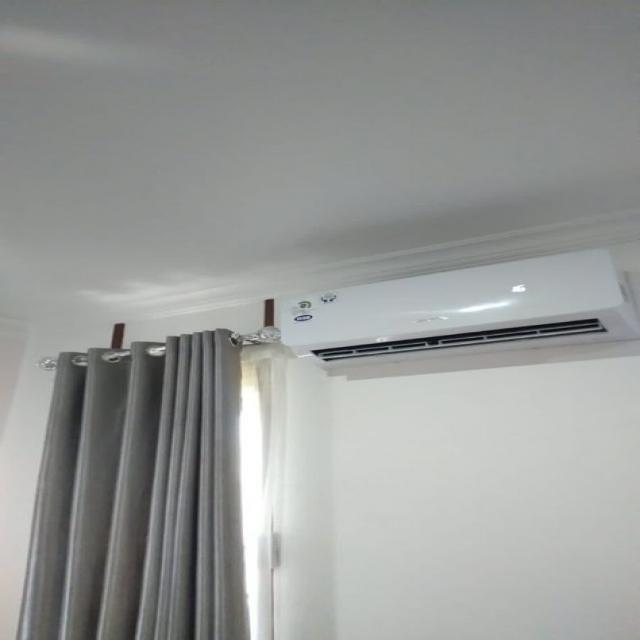AC: (279, 245, 639, 368)
